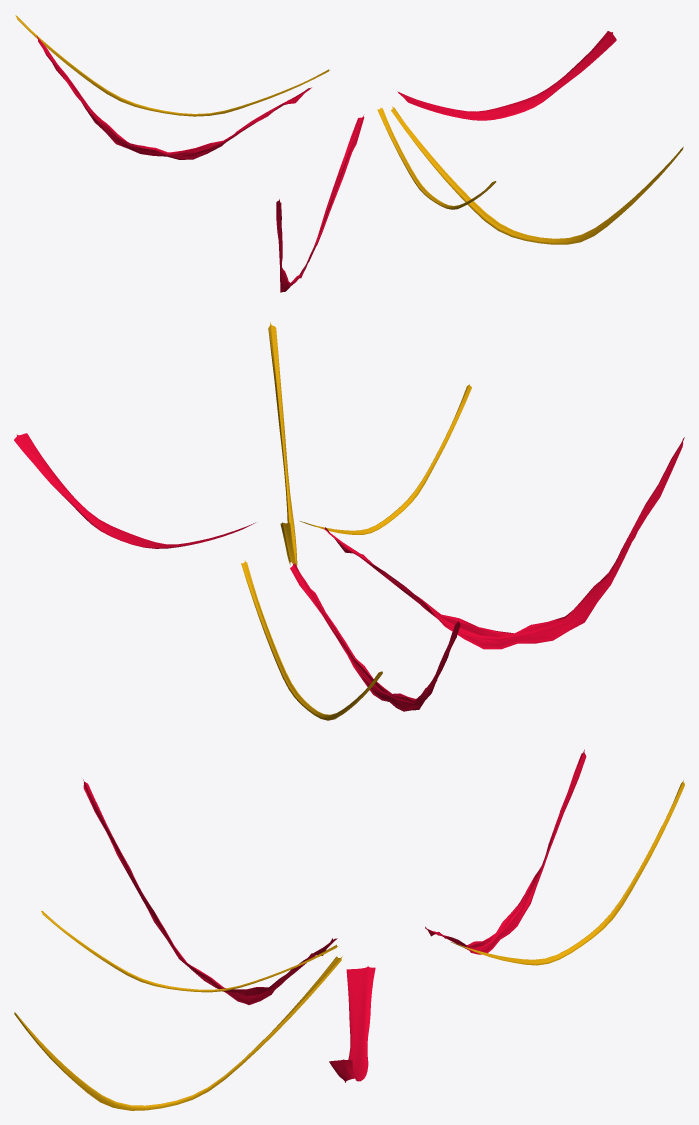
The model's file is added drapes.glb.
3 renders of one model, top to bottom at view 1: azimuth 30°, elevation 25°; view 2: azimuth 150°, elevation 25°; view 3: azimuth 270°, elevation 25°, orthographic. The views are drawn at different scales.
Visible parts, largest first — view 1: Plane.1342, Plane.1346, Plane.1337, Plane.1343, Plane.1338, Plane.1345; view 2: Plane.1343, Plane.1337, Plane.1342, Plane.1346, Plane.1338, Plane.1345; view 3: Plane.1342, Plane.1343, Plane.1346, Plane.1337, Plane.1338, Plane.1345.
Boxes of the visible parts, box(x1,y1,x2,y2) form: Plane.1342: box(397, 31, 616, 120); Plane.1346: box(391, 106, 683, 244); Plane.1337: box(36, 35, 311, 159); Plane.1343: box(276, 114, 364, 292); Plane.1338: box(15, 15, 329, 116); Plane.1345: box(377, 107, 496, 209); Plane.1343: box(322, 437, 684, 649); Plane.1337: box(290, 563, 460, 711); Plane.1342: box(14, 433, 255, 548); Plane.1346: box(268, 322, 297, 565); Plane.1338: box(241, 560, 382, 720); Plane.1345: box(300, 384, 471, 534); Plane.1342: box(329, 966, 375, 1082); Plane.1343: box(83, 779, 337, 1004); Plane.1346: box(14, 956, 342, 1110); Plane.1337: box(425, 749, 586, 954); Plane.1338: box(451, 780, 684, 965); Plane.1345: box(41, 911, 337, 992).
Size of the model in its own units: 14.38 by 4.7 by 15.2.
